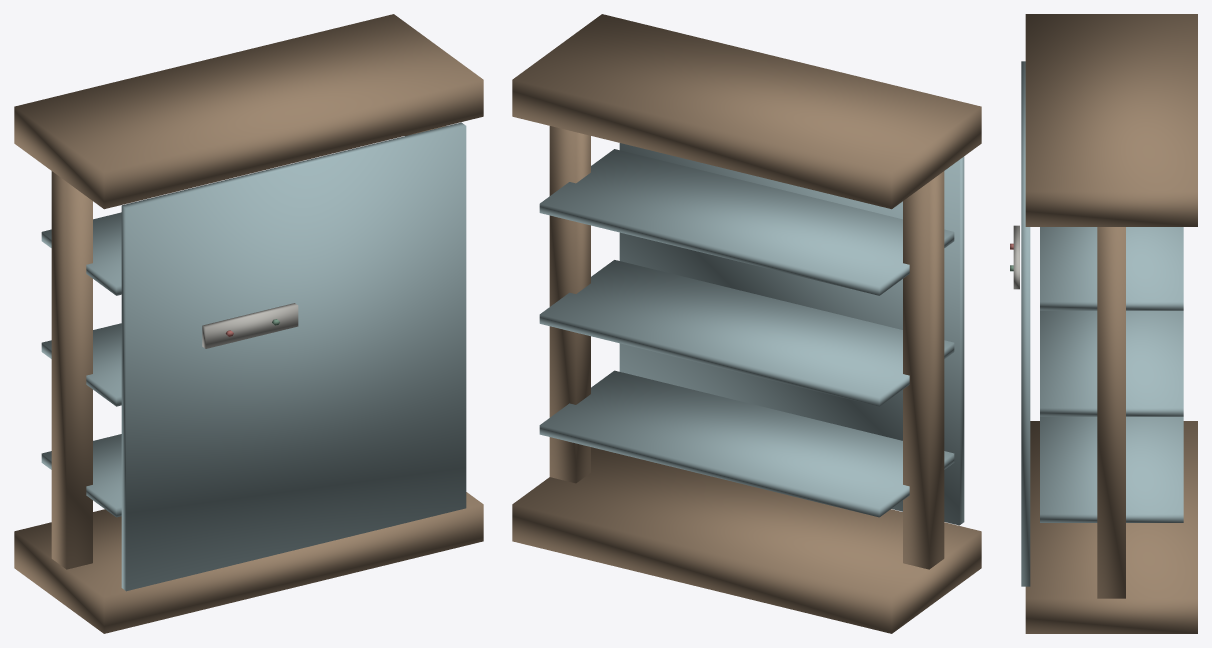
The model's file is glass_display_cabinet__squat.glb.
3 renders of one model, left to right at view 1: azimuth 30°, elevation 25°; view 2: azimuth 150°, elevation 25°; view 3: azimuth 270°, elevation 25°, orthographic. The views are drawn at different scales.
Visible parts, largest first — view 1: world; view 2: world; view 3: world.
Boxes of the visible parts, x1,y1,x2,y2 form: world: (14, 14, 483, 633); world: (512, 14, 981, 633); world: (1010, 14, 1197, 633).
Bounding box in the file's own units: 1.26 × 1.47 × 0.5654.
